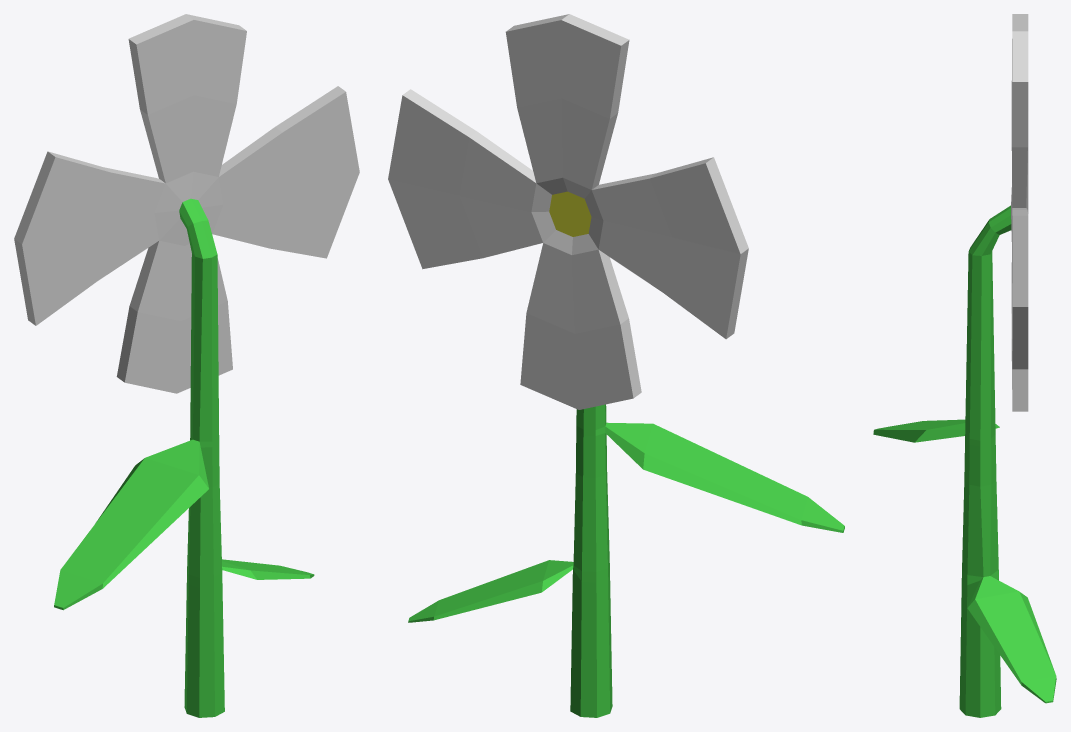
Rendered from Flower.fbx.
3 renders of one model, left to right at view 1: azimuth 30°, elevation 25°; view 2: azimuth 150°, elevation 25°; view 3: azimuth 270°, elevation 25°, orthographic. The views are drawn at different scales.
Visible parts, largest first — view 1: Stalk; view 2: Stalk; view 3: Stalk.
Part boxes in pixels (bbox=[...]): Stalk: bbox=[14, 14, 359, 717]; Stalk: bbox=[388, 14, 844, 717]; Stalk: bbox=[873, 14, 1056, 717].
Size of the model in its own units: 8.83 by 15.55 by 3.8.
